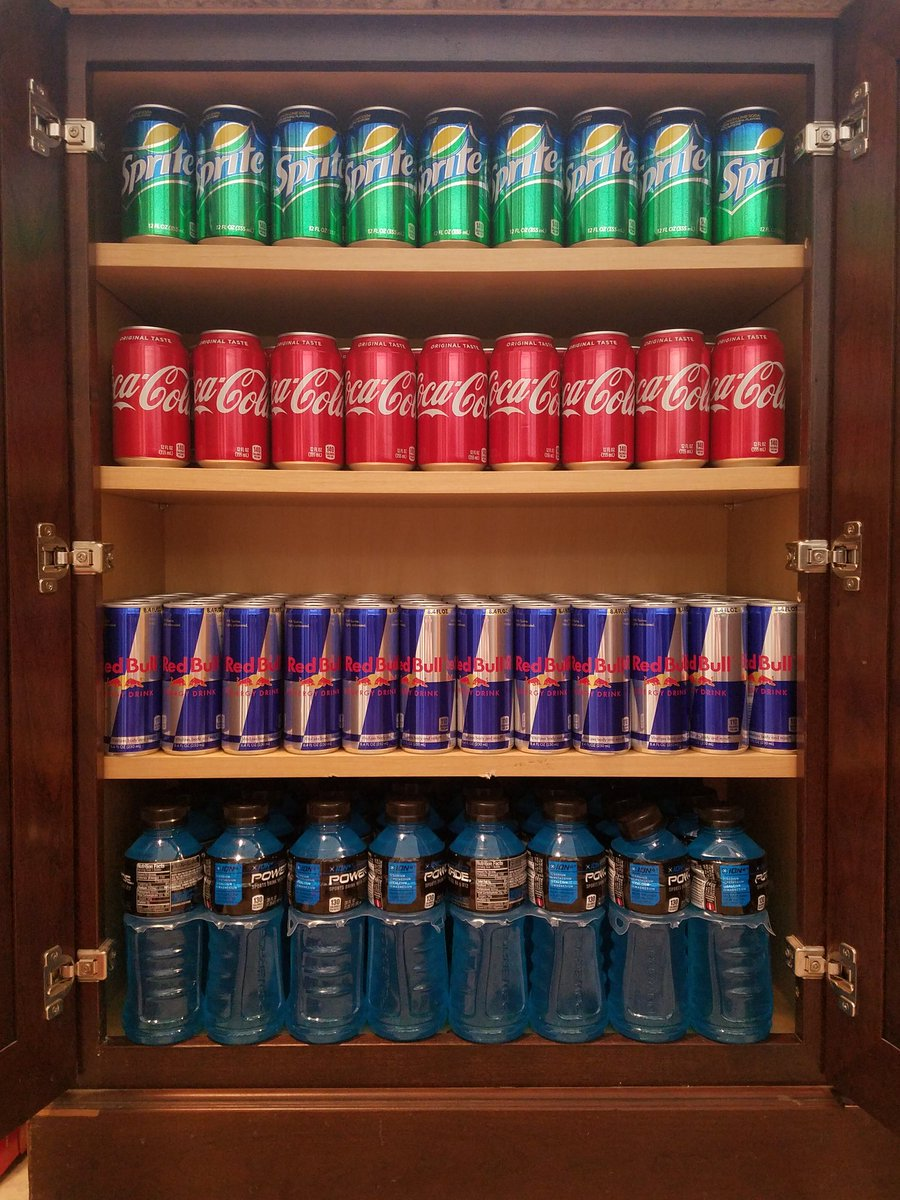cocacola: (346, 371, 418, 420)
redbull: (160, 652, 222, 692), (631, 653, 689, 689), (343, 658, 399, 691), (224, 656, 283, 687), (516, 654, 571, 687), (290, 654, 343, 685)
sprite: (567, 138, 638, 206), (640, 138, 707, 204), (490, 139, 557, 204), (345, 142, 413, 206), (416, 142, 484, 206), (193, 139, 265, 199), (718, 152, 789, 205), (119, 141, 191, 192), (274, 148, 345, 196)
